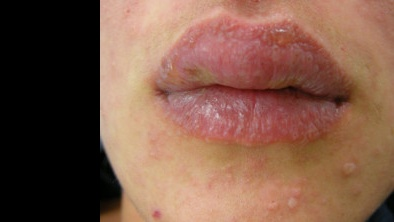SJS-TEN: (122, 2, 394, 222)
